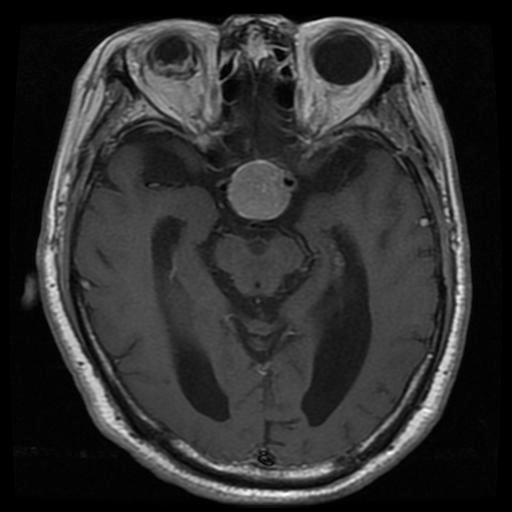Tumour-Pituitary: (222, 160, 296, 228)
